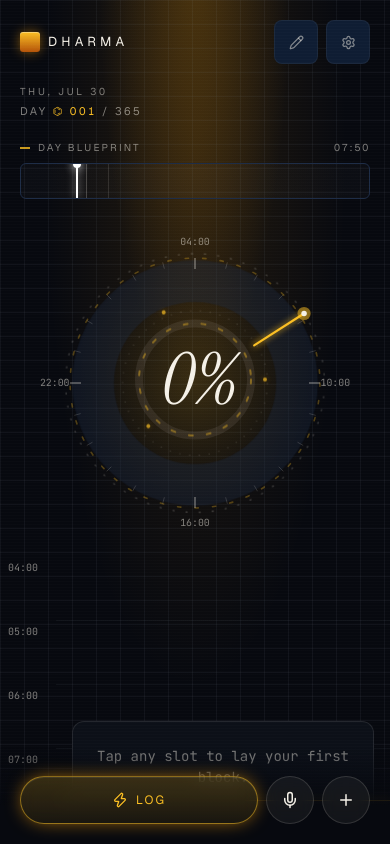
Scenario: C-m4d-017: M2 dock+ → chooser → Add Block → save journey (replaces C-m2-020 direct path) › saves a block 'Foo' via chooser routing; EmptyBlocks unmounts; block in DOM
Note: Tap dock +
Click the button named "Add". click: point(346, 800)
box: top-left (322, 776), bottom-right (370, 824)
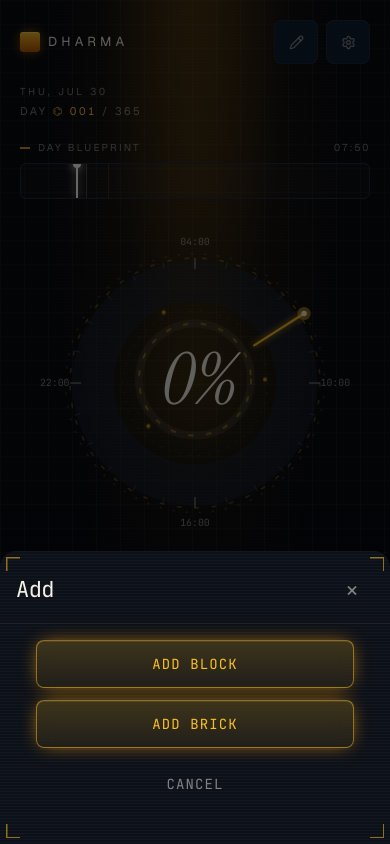
Note: Tap "Add Block" in chooser
Click the button "Add Block". click: point(195, 664)
box: top-left (36, 640), bottom-right (354, 688)
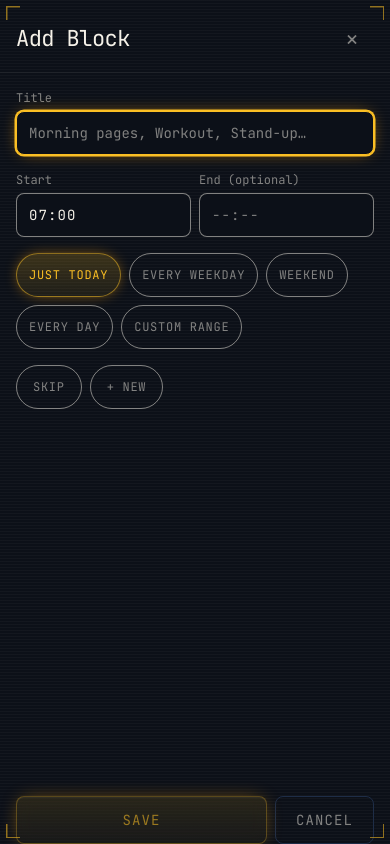
Note: Type title and save
Type "Foo" into the field labelled "Title". click: point(195, 133)
box: top-left (16, 111), bottom-right (374, 155)
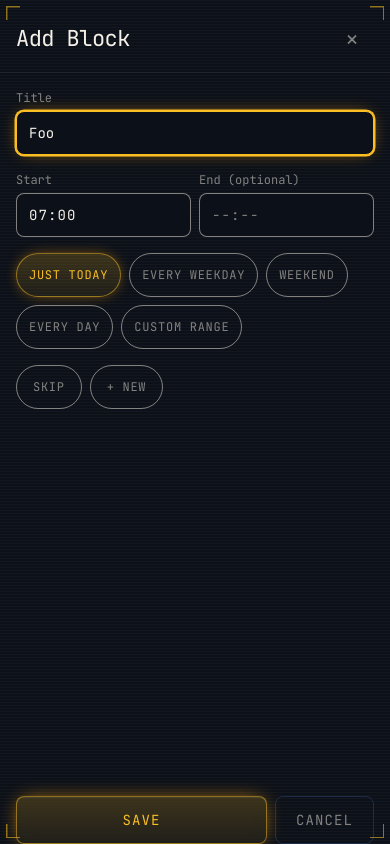
Click the button "Save". click: point(141, 820)
box: top-left (16, 796), bottom-right (267, 843)
(page scrolled)
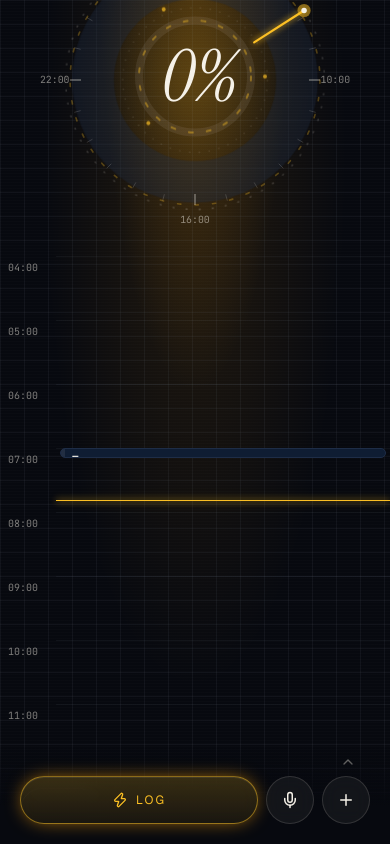
Check: the text "Tap any slot to lay your first block." is gone
Check: the element showing "Foo 07:00" is shown, box top-left (60, 448), bottom-right (386, 458)
